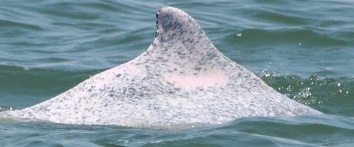fin: (12, 2, 332, 141)
